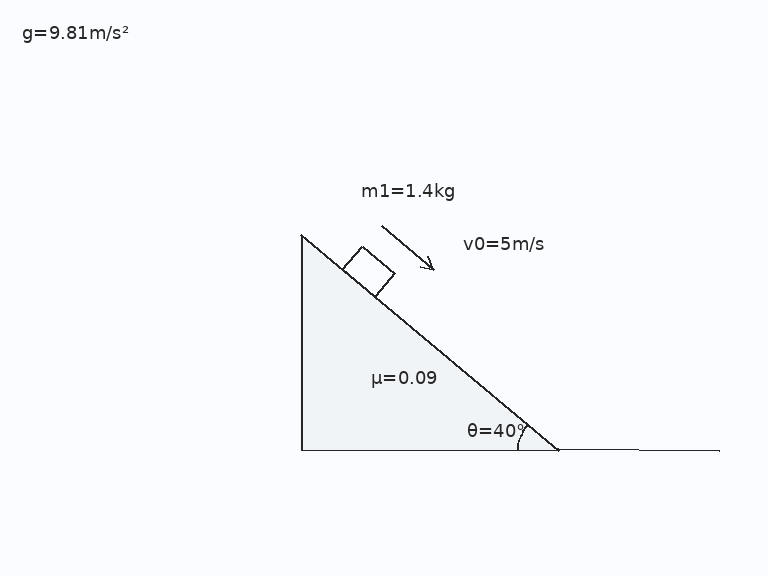block: (341, 244, 396, 298)
ramp: (299, 232, 560, 452)
